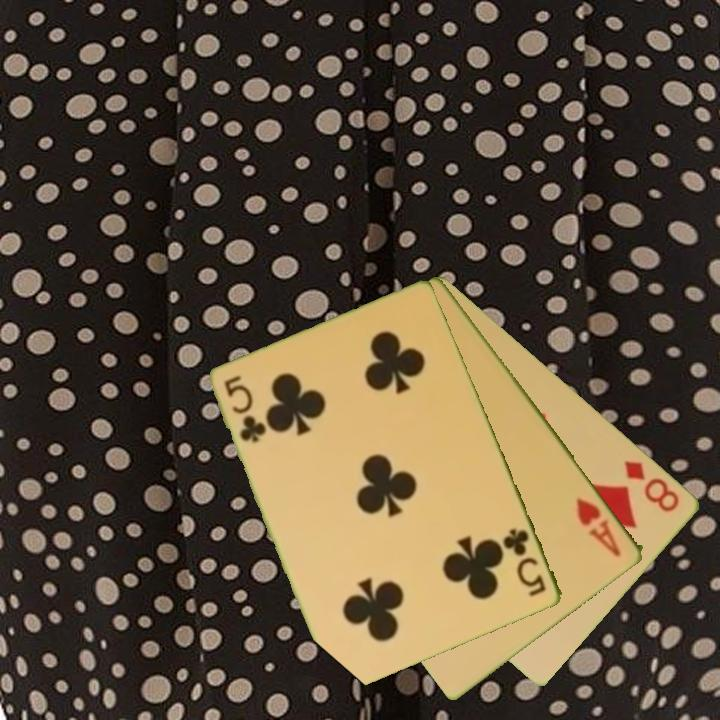5c: (499, 525, 550, 600), (221, 372, 267, 446)
8d: (621, 457, 683, 515)
Ah: (573, 494, 625, 560)
